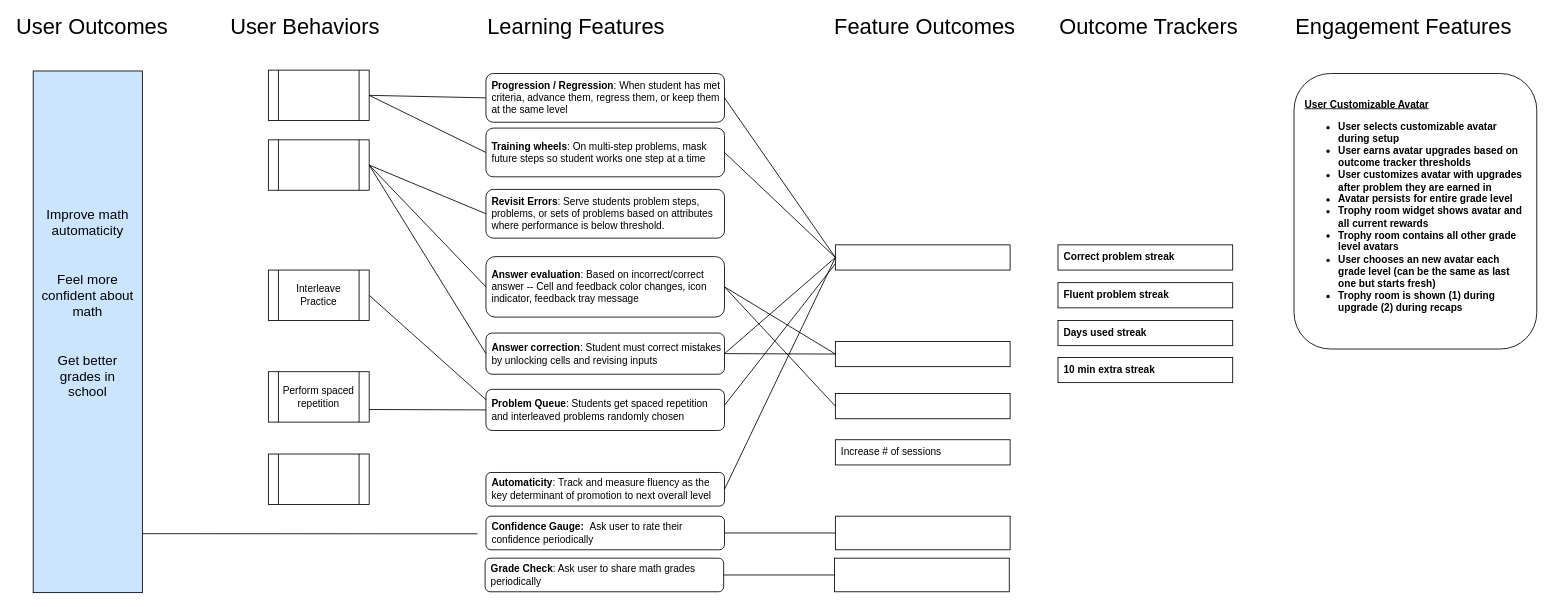
Some shapes in this 1551 by 607 pixel diagram are drawn without their labels. The centre of each missing label's shape, as x and y in pixels:
"Correct Mistakes" goes at [318,164].
"I ncrease fluency" goes at [922,257].
"Increase session time" goes at [922,406].
"Increase user reported confidence" goes at [922,532].
"Increase user reported grade" goes at [921,574].
"Practice at Right Level" goes at [318,95].
"Practice Regularly" goes at [318,478].
"Reduce repeat error rate" goes at [922,354].
